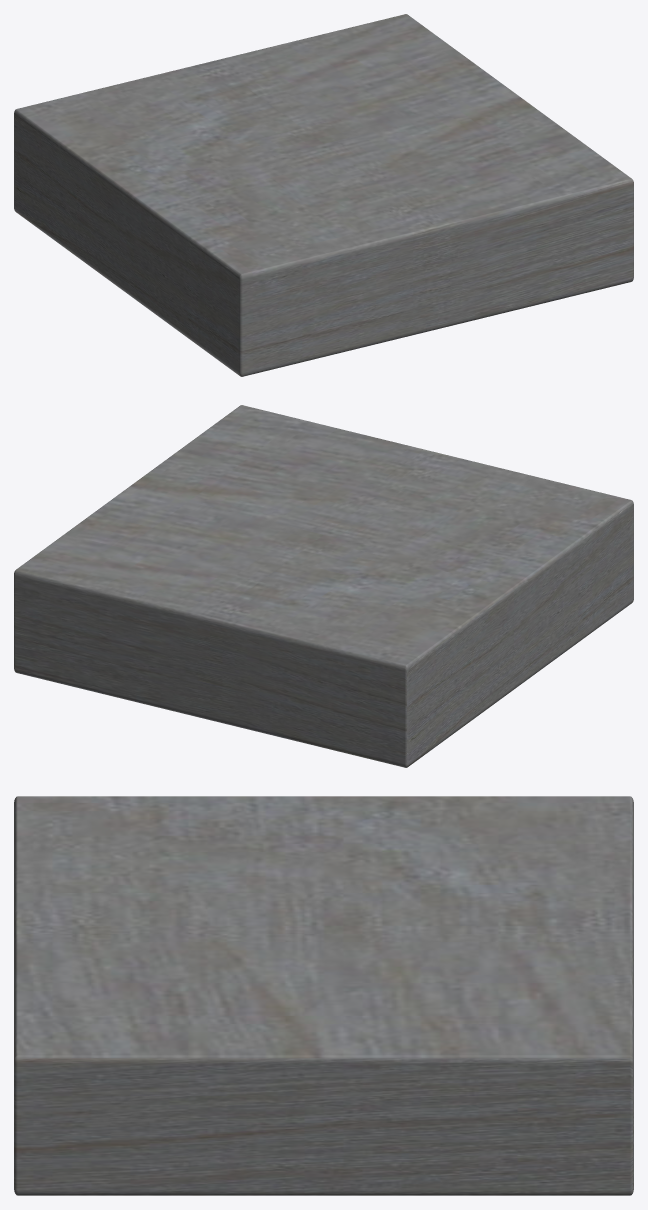
The model's file is WalkWay.obj.
The picture shows the model from 3 angles, top to bottom: view 1: azimuth 30°, elevation 25°; view 2: azimuth 150°, elevation 25°; view 3: azimuth 270°, elevation 25°; orthographic projection. The views are drawn at different scales.
Parts seen in each view (by area): view 1: WalkWay; view 2: WalkWay; view 3: WalkWay.
Boxes of the visible parts, x1=… form: WalkWay: x1=14, y1=14, x2=633, y2=376; WalkWay: x1=14, y1=405, x2=633, y2=767; WalkWay: x1=14, y1=796, x2=633, y2=1195.
Bounding box in the file's own units: 100 × 25 × 100.
Materials: 1 (1 with a texture image).
